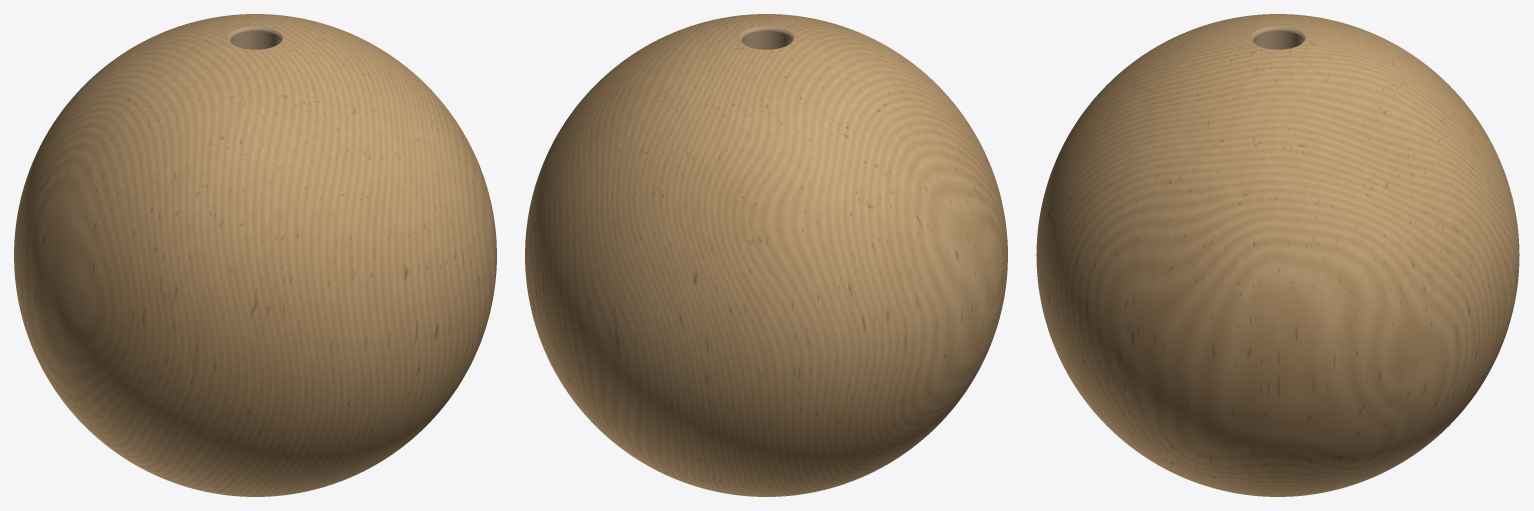
The model's file is wood-laoshan-sandalwood-10mm.glb.
3 views of the same model, side by side, from view 1: azimuth 30°, elevation 25°; view 2: azimuth 150°, elevation 25°; view 3: azimuth 270°, elevation 25° (orthographic).
Visible parts, largest first — view 1: laoshan-sandalwood; view 2: laoshan-sandalwood; view 3: laoshan-sandalwood.
Part boxes in pixels (<box>): laoshan-sandalwood: <box>14,14,496,496</box>; laoshan-sandalwood: <box>525,14,1007,496</box>; laoshan-sandalwood: <box>1036,14,1519,496</box>.
Size of the model in its own units: 0.01 by 0.00993 by 0.01.
Materials: 2 (1 with a texture image).
